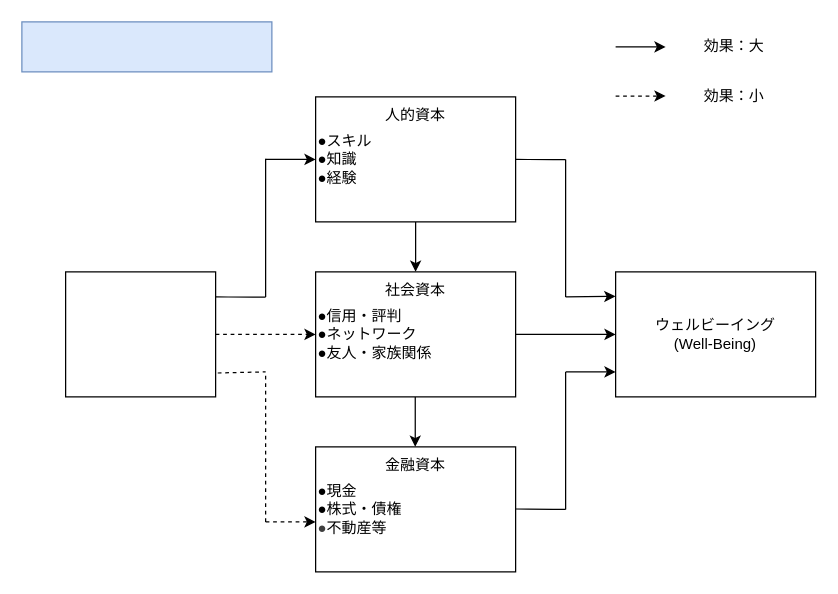
This 838x594 diagram has some shape labels left out. The centre of each missing label's shape, as x and y in pixels:
応答と飽和 ～人生というプロジェクトの原理～: the point at 146,46
時間資本: the point at 140,334
